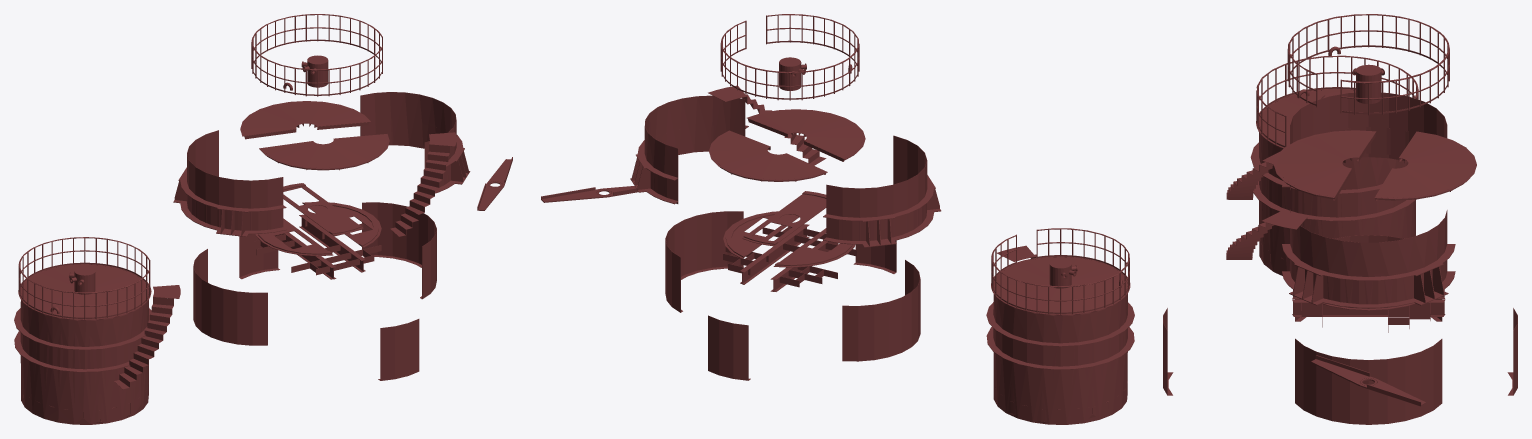
File: No3feeder.glb
3 renders of one model, left to right at view 1: azimuth 30°, elevation 25°; view 2: azimuth 150°, elevation 25°; view 3: azimuth 270°, elevation 25°, orthographic. The views are drawn at different scales.
Parts seen in each view (by area): view 1: 3号定量フィーダー001; view 2: 3号定量フィーダー001; view 3: 3号定量フィーダー001.
Boxes of the visible parts, x1,y1,x2,y2 form: 3号定量フィーダー001: [14, 14, 512, 424]; 3号定量フィーダー001: [541, 14, 1134, 424]; 3号定量フィーダー001: [1163, 14, 1517, 424].
Bounding box in the file's own units: 22.68 × 11.88 × 10.87.
